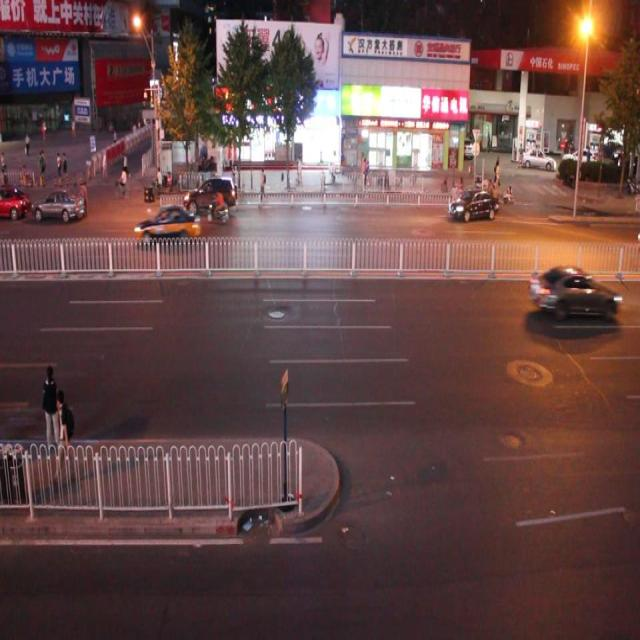car: (528, 262, 618, 320), (133, 202, 201, 246), (180, 174, 234, 218), (29, 186, 83, 228), (447, 186, 496, 224)
